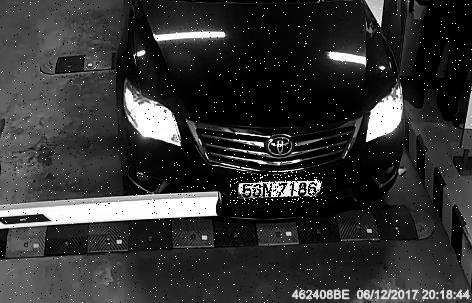License-plate: (231, 172, 324, 205)
